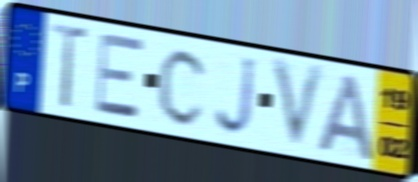A: (315, 70, 377, 164)
C: (156, 45, 210, 129)
E: (93, 32, 145, 122)
J: (213, 54, 258, 139)
T: (48, 19, 91, 112)
V: (269, 55, 329, 156)
